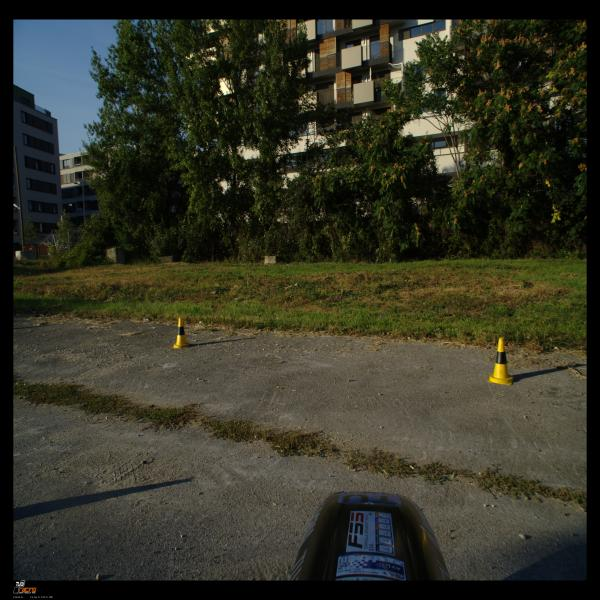yellow_cone: (488, 338, 513, 385), (173, 317, 189, 349)
